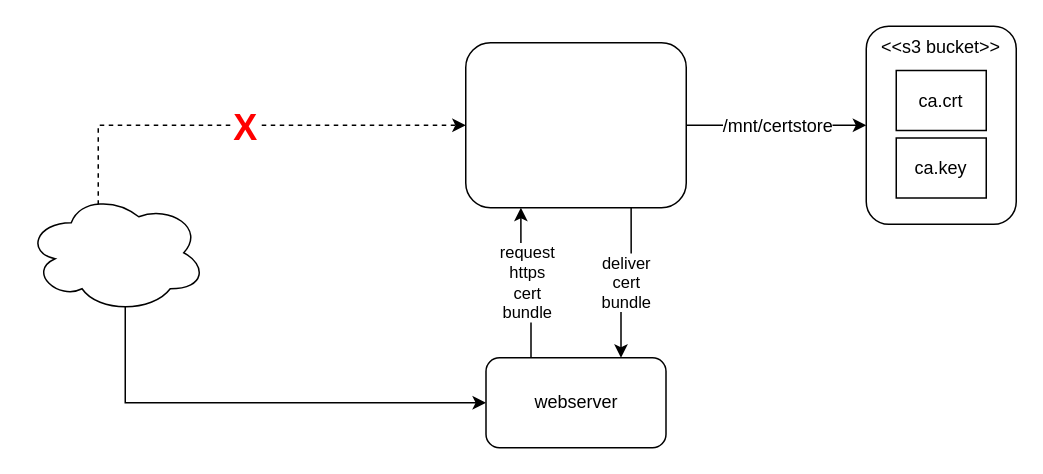
Some shapes in this 1043 by 474 pixel diagram are drawn without their labels. The centre of each missing label's shape, as x and y in pixels:
ca-api: (575,124)
Internet: (115,252)
